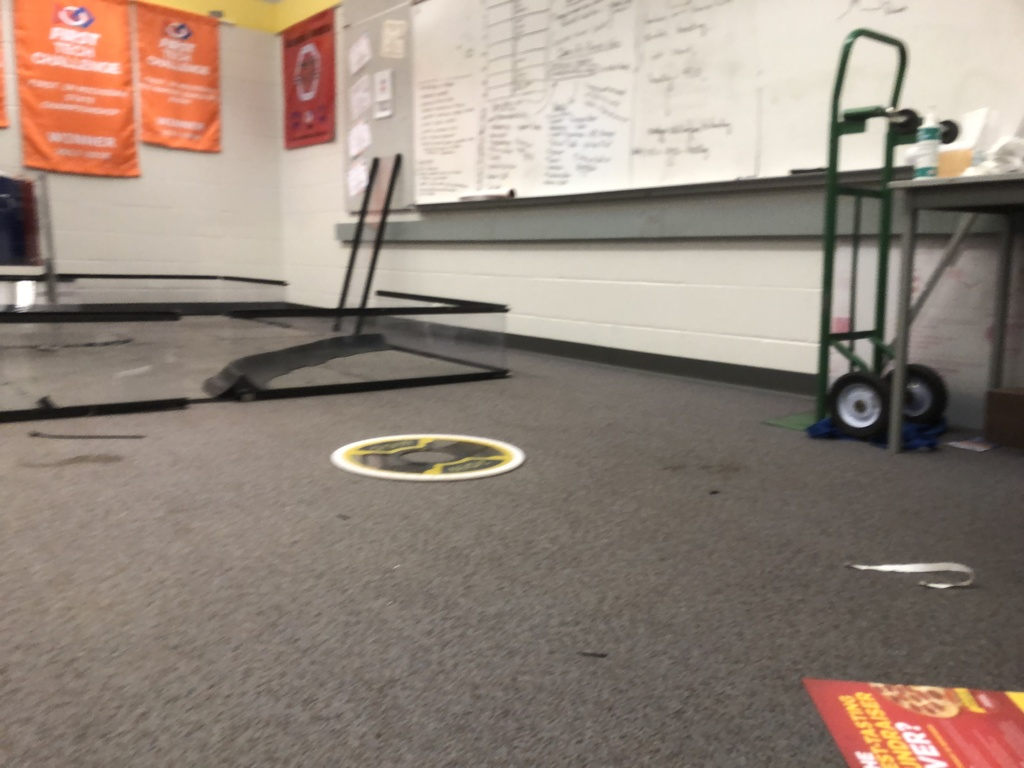hatch_panel: (328, 419, 518, 485)
